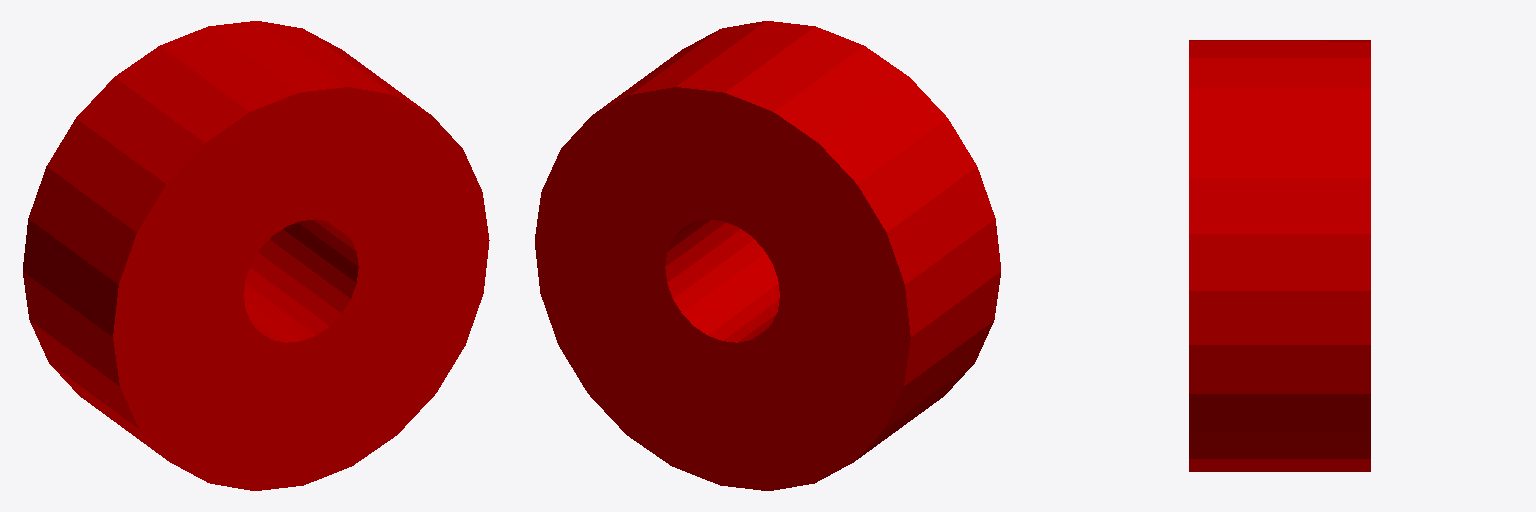
Rendered from carro_circulo1.obj.
The picture shows the model from 3 angles: view 1: azimuth 30°, elevation 25°; view 2: azimuth 150°, elevation 25°; view 3: azimuth 270°, elevation 25°; orthographic projection.
Parts seen in each view (by area): view 1: circulo1_Mesh29_Group29_Model; view 2: circulo1_Mesh29_Group29_Model; view 3: circulo1_Mesh29_Group29_Model.
Part boxes in pixels (x1,y1,x2,y2): circulo1_Mesh29_Group29_Model: (23, 21, 489, 490); circulo1_Mesh29_Group29_Model: (535, 21, 1000, 490); circulo1_Mesh29_Group29_Model: (1189, 40, 1370, 471).
Size of the model in its own units: 23.99 by 23.98 by 10.01.